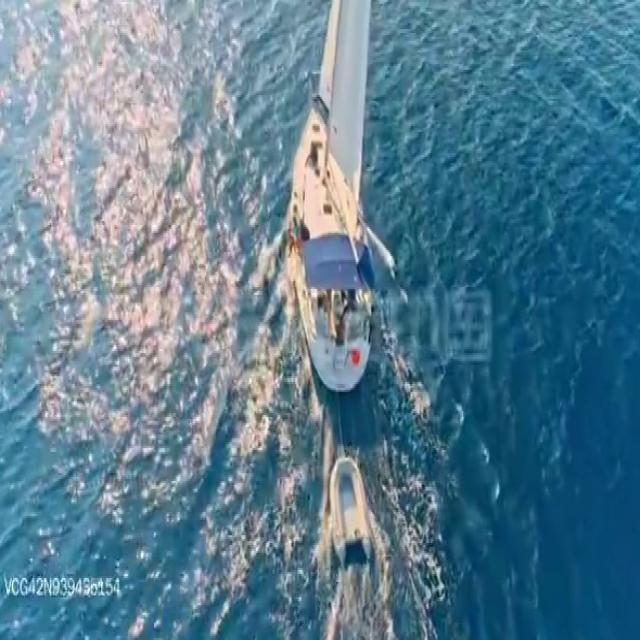sailboat: (277, 0, 388, 394)
